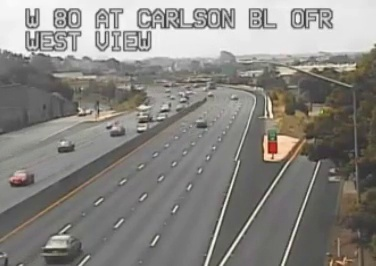car: (41, 236, 82, 259), (196, 118, 207, 128)
